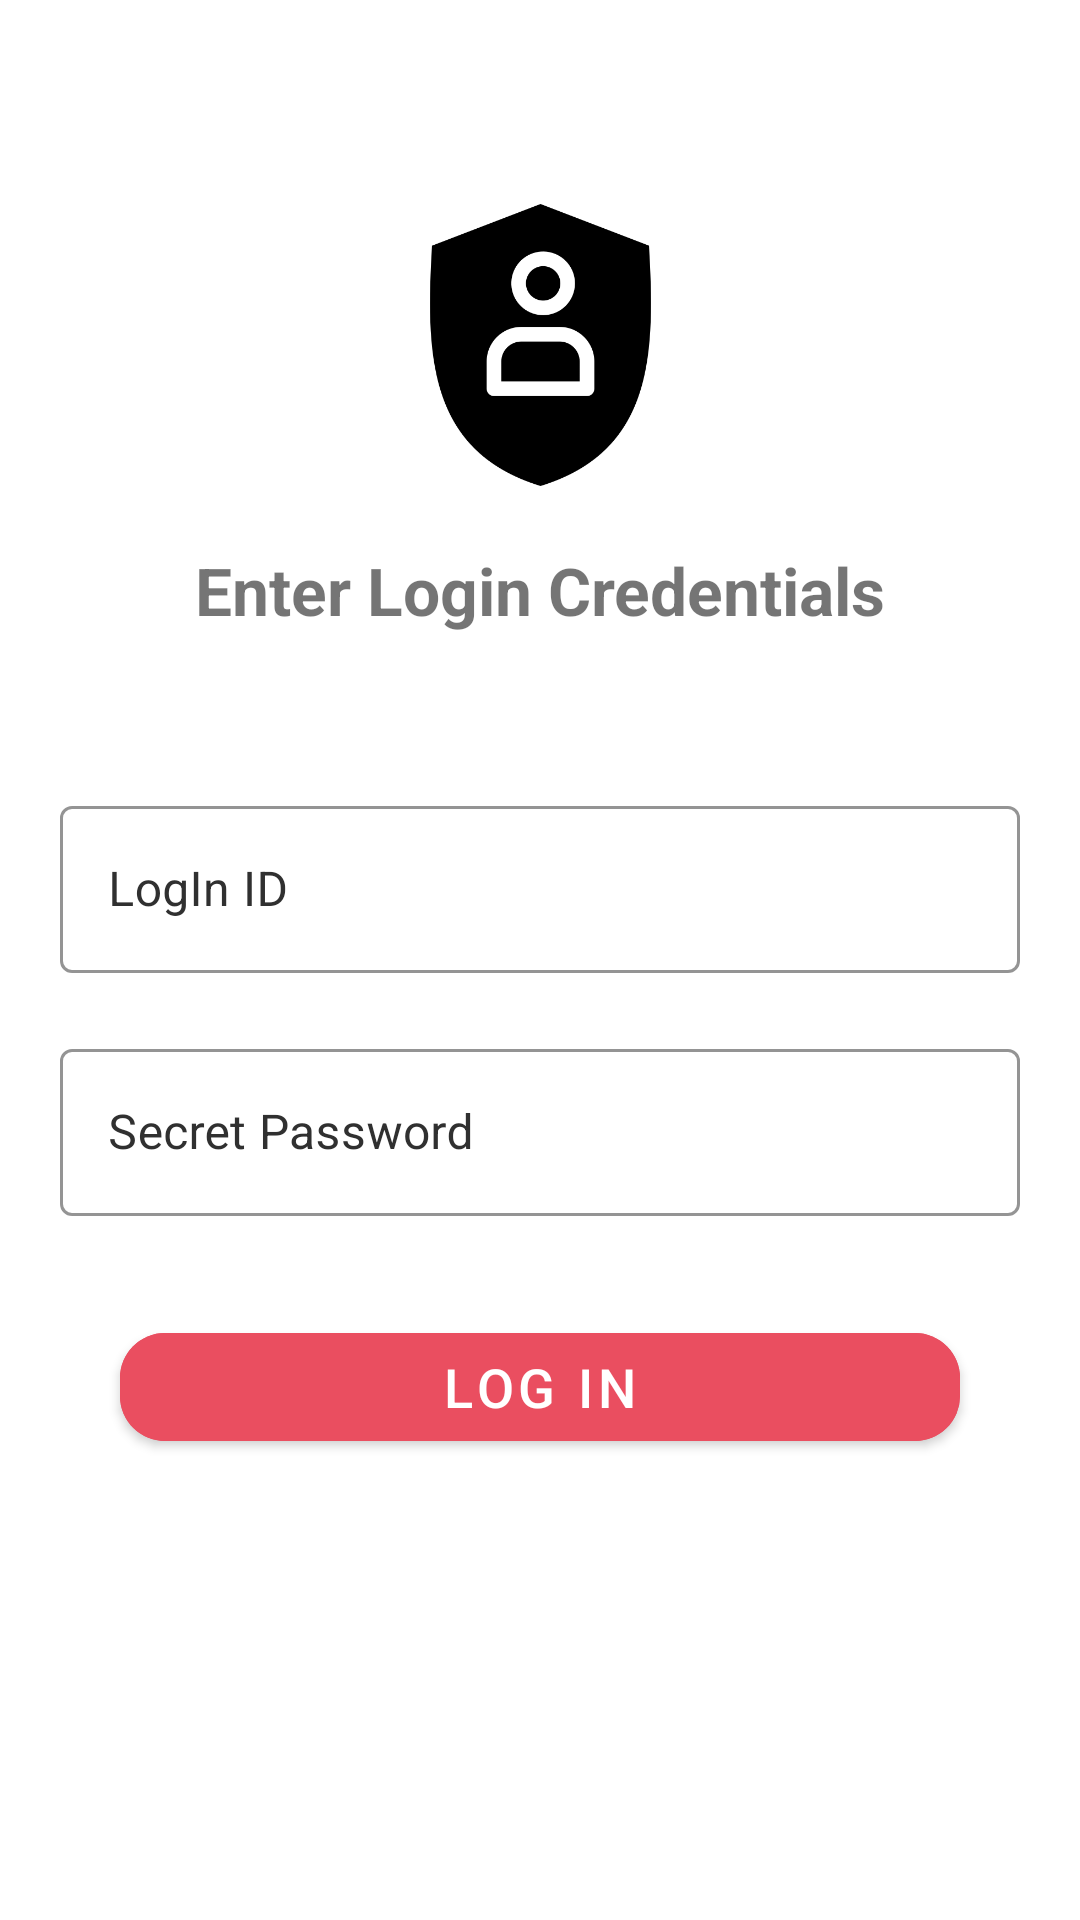

Named icons in this screenshot (1080px x 1920px) and their centers, (x=x, y=y):
admin login screen: (x=540, y=345)
